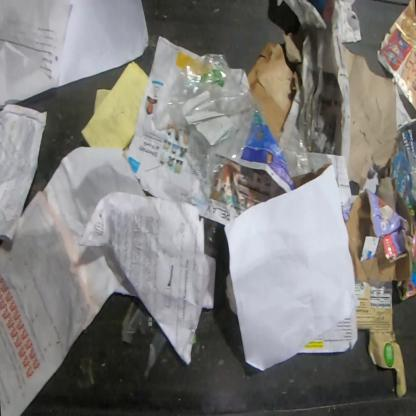cardboard: (339, 39, 416, 189), (342, 176, 414, 283), (354, 268, 408, 399), (246, 38, 302, 141), (282, 24, 304, 67)
soft_plastic: (163, 51, 267, 185), (120, 295, 169, 380), (278, 119, 314, 190), (388, 139, 415, 210), (204, 218, 226, 261)
